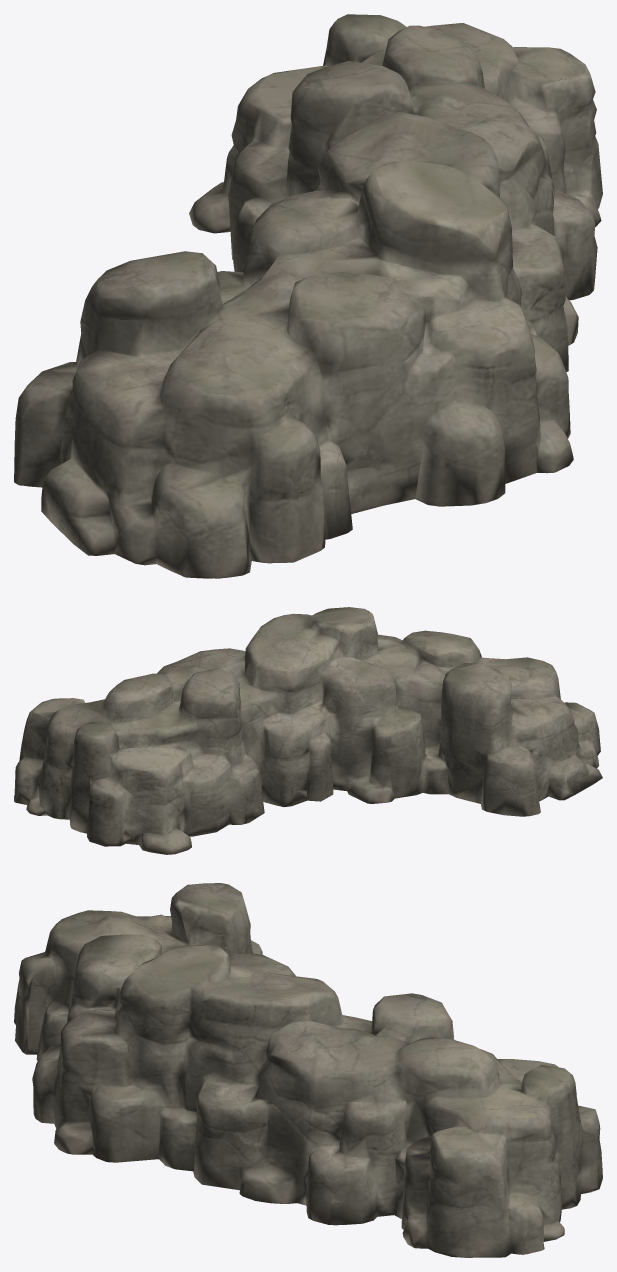
The model's file is a33_rock.glb.
3 renders of one model, top to bottom at view 1: azimuth 30°, elevation 25°; view 2: azimuth 150°, elevation 25°; view 3: azimuth 270°, elevation 25°, orthographic. The views are drawn at different scales.
Parts seen in each view (by area): view 1: body; view 2: body; view 3: body.
Part boxes in pixels (x1,y1,x2,y2): body: (14,14,602,578); body: (14,607,602,854); body: (14,883,602,1257).
Size of the model in its own units: 1 by 0.3003 by 0.9226.
1 material, 1 textured.
